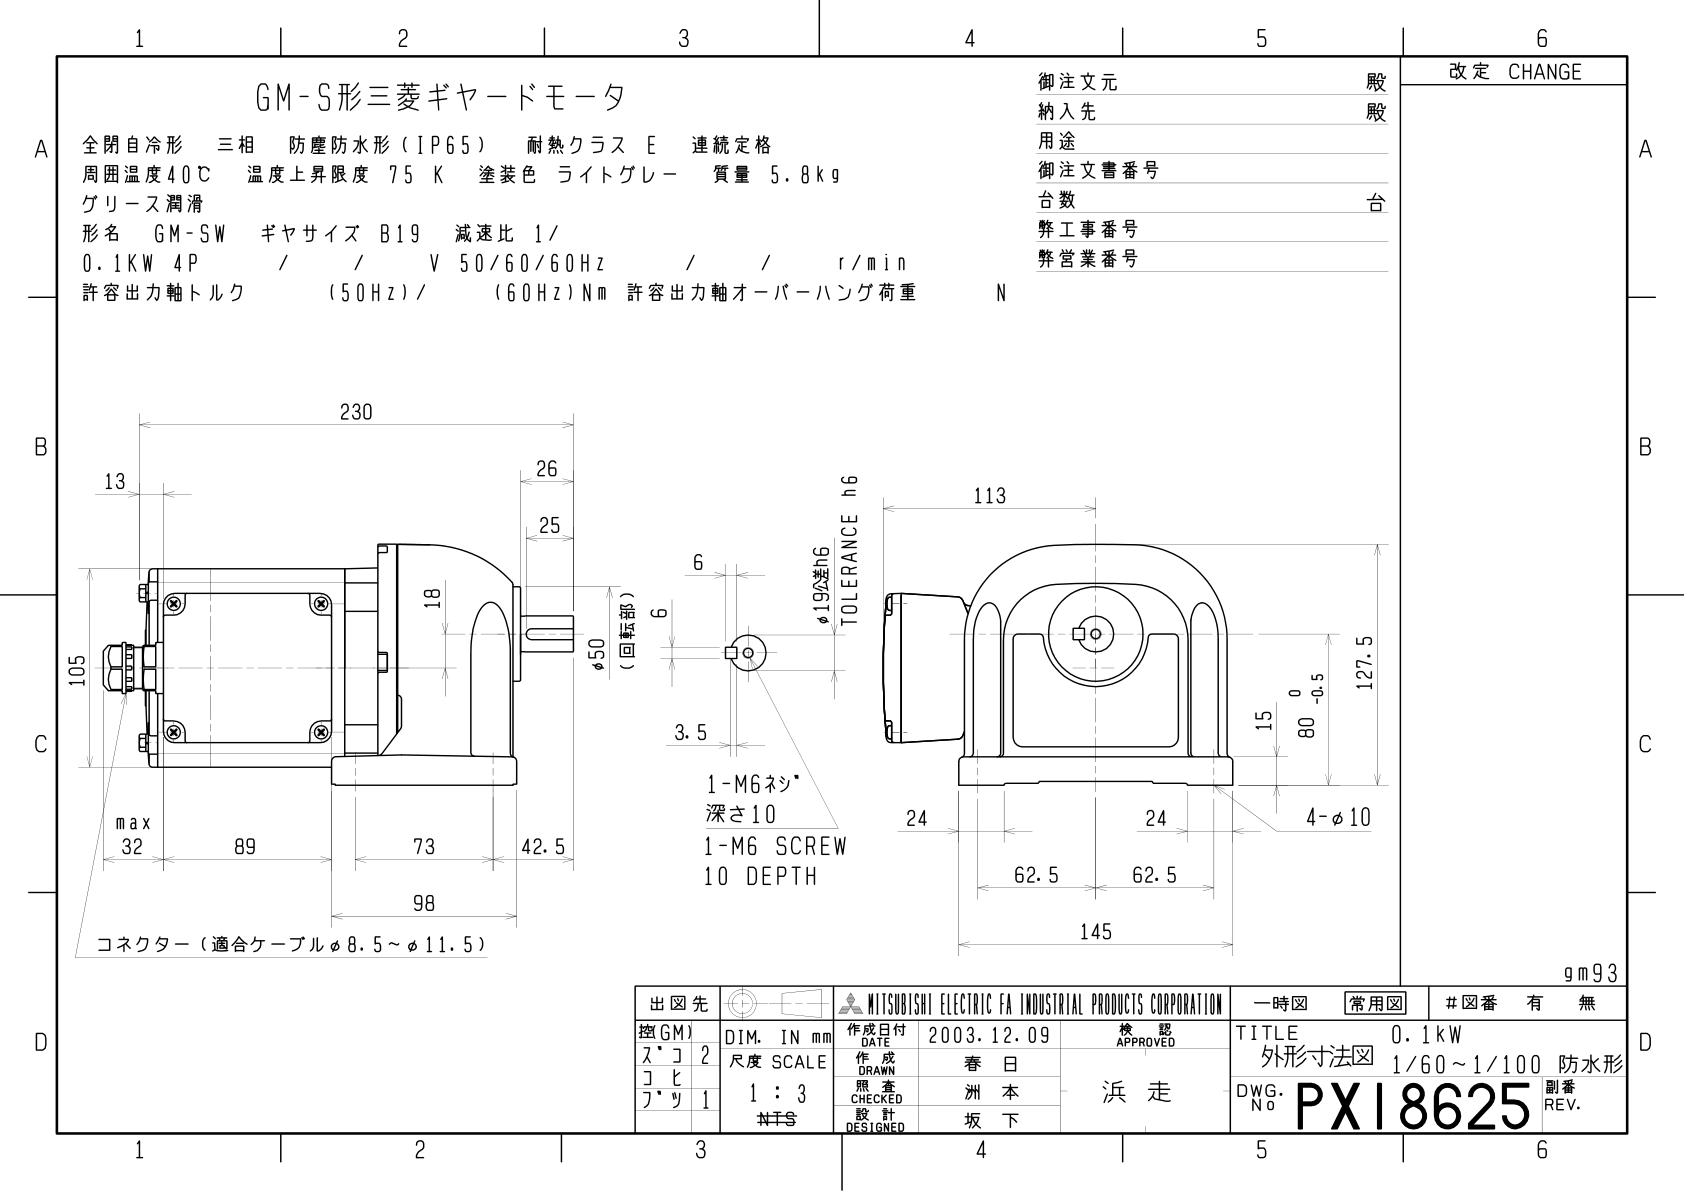GM_S_IP65＿三相_脚: (63, 373, 1393, 965)
